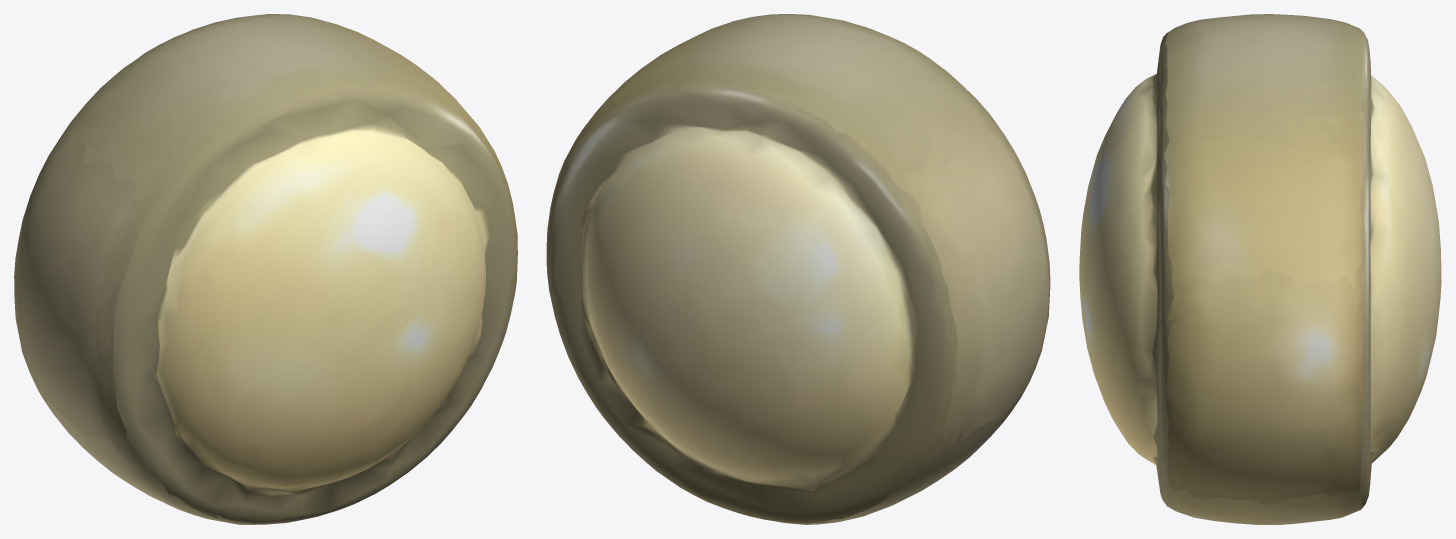
The model's file is pearl.glb.
3 views of the same model, side by side, from view 1: azimuth 30°, elevation 25°; view 2: azimuth 150°, elevation 25°; view 3: azimuth 270°, elevation 25° (orthographic).
Bounding box in the file's own units: 0.3001 × 0.2987 × 0.2123.
Materials: 1 (1 with a texture image).
